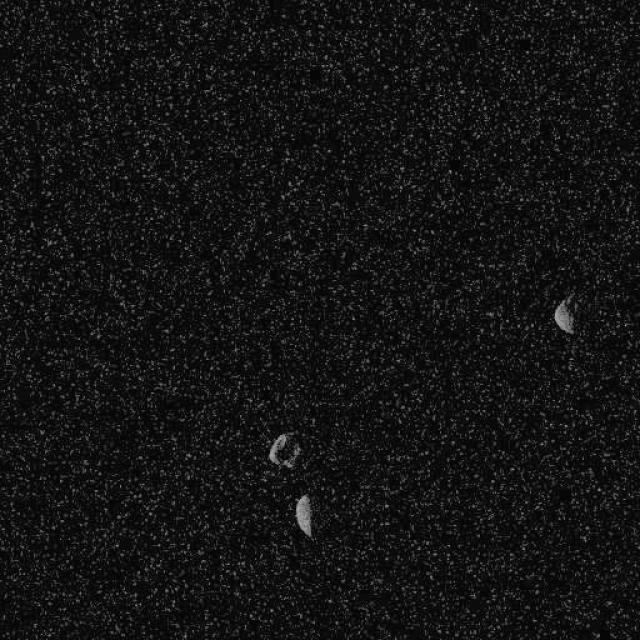D2: (268, 430, 300, 469), (552, 291, 578, 335), (294, 492, 314, 538)
